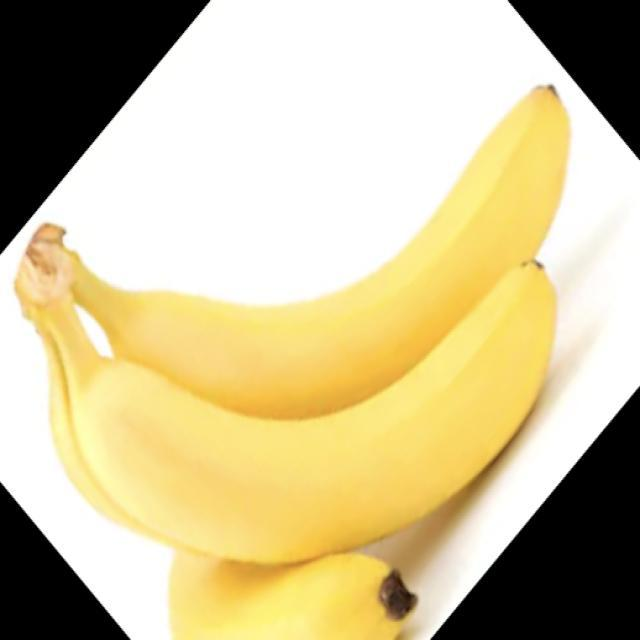Banana: (14, 71, 576, 553), (164, 526, 413, 640)
